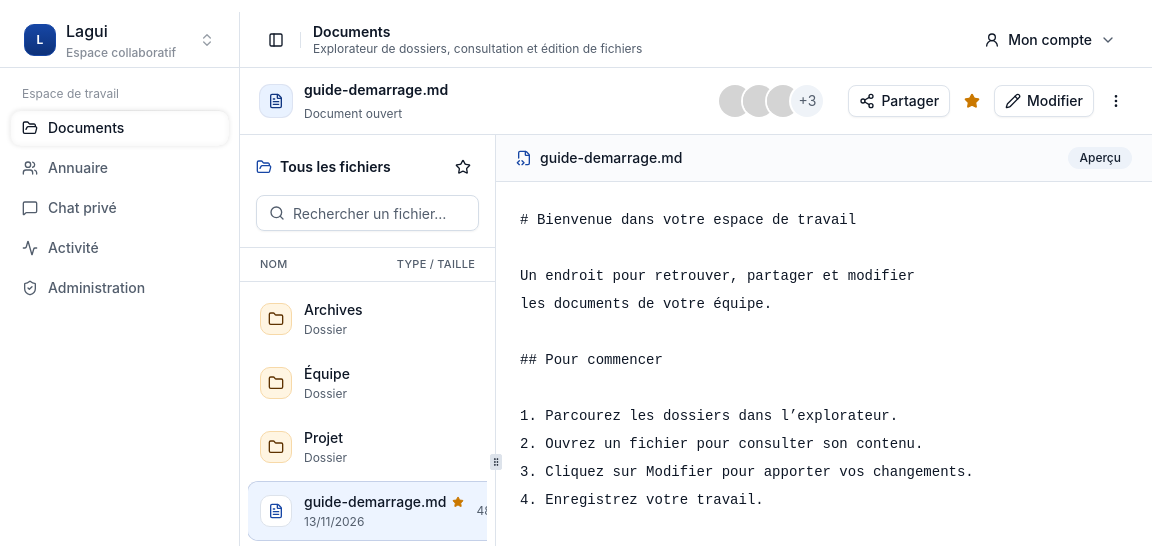
Test: WorkspaceShell › permet d'approuver une inscription dans l'aperçu Vite sans backend
Click the tab "Administration".
click(120, 288)  # box top-left (10, 270), bottom-right (229, 306)
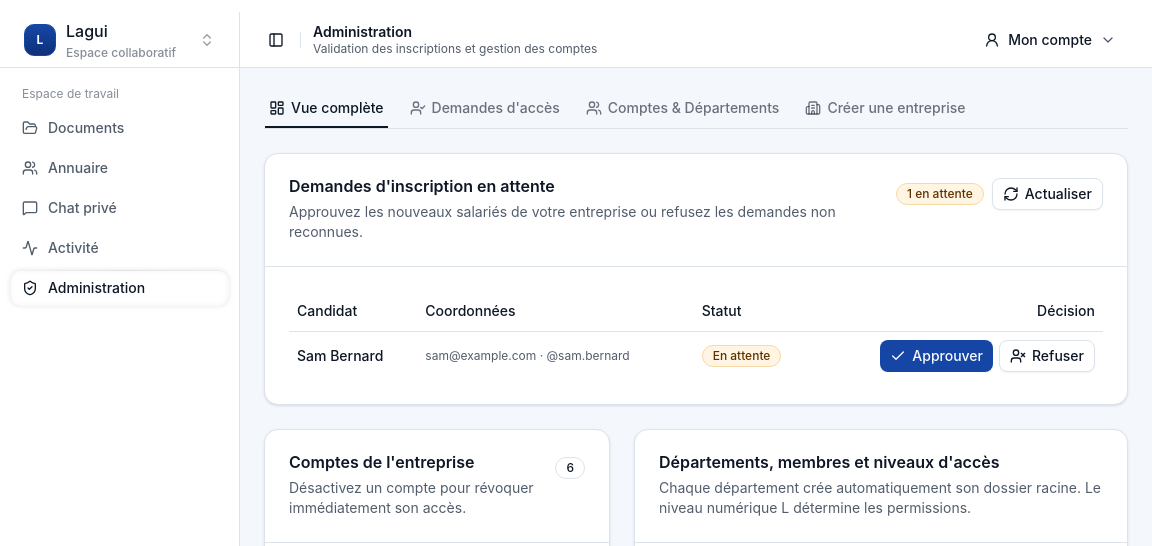
Now the text "Sam Bernard" is shown, box top-left (289, 331), bottom-right (417, 380)
Click the button "Approuver".
click(937, 356)  # box top-left (880, 340), bottom-right (993, 372)
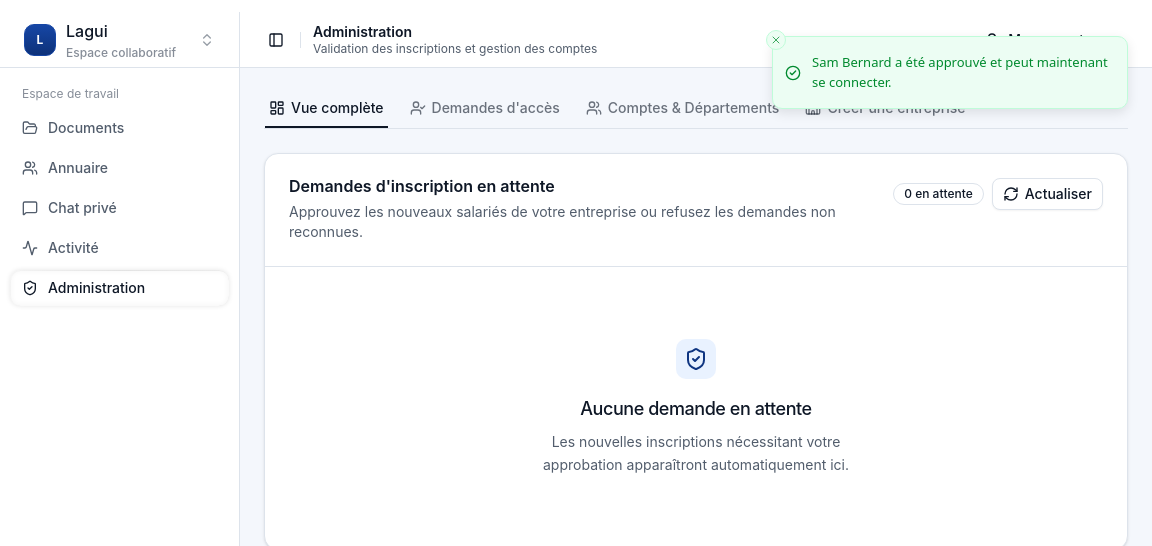
Now the text "Aucune demande en attente" is shown, box top-left (580, 395), bottom-right (812, 423)
